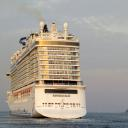cruises: (6, 19, 89, 121)
